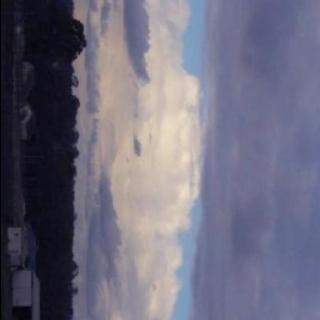Stratocumulus: (82, 0, 320, 320)
